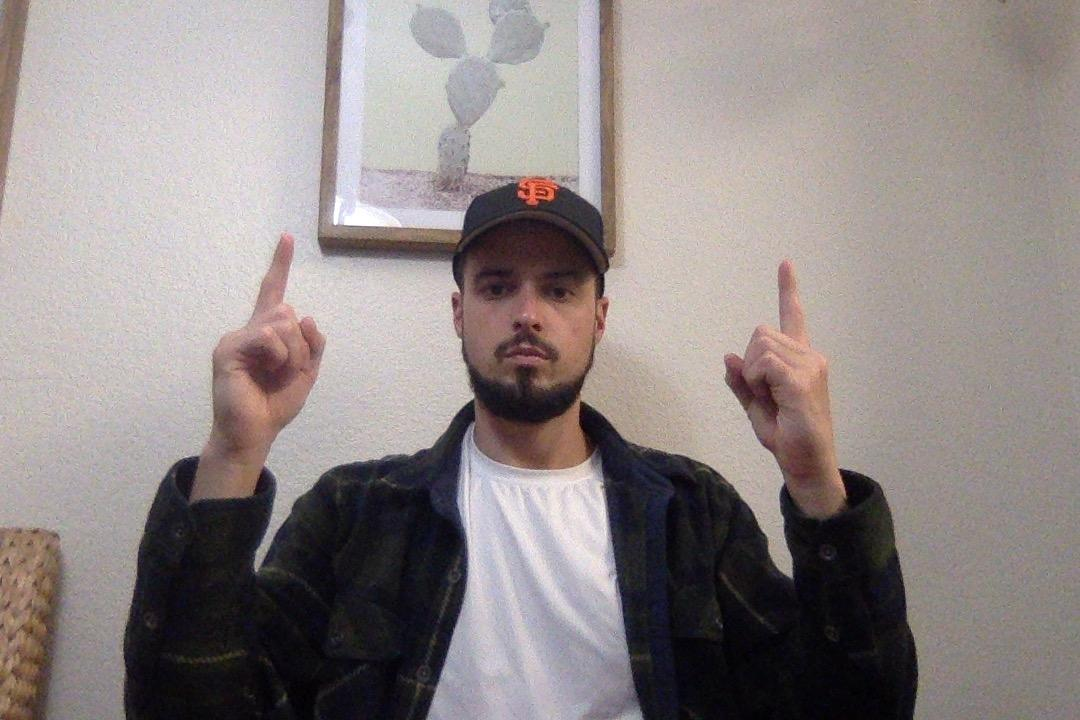Pointing-Up: (715, 248, 858, 521), (210, 215, 329, 461)
